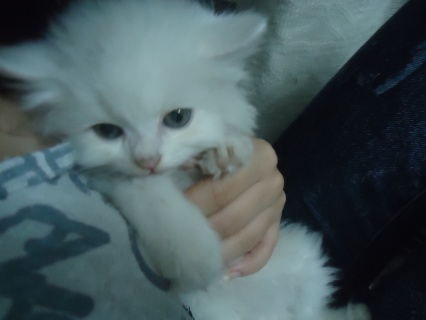Cat: (0, 0, 347, 319)
